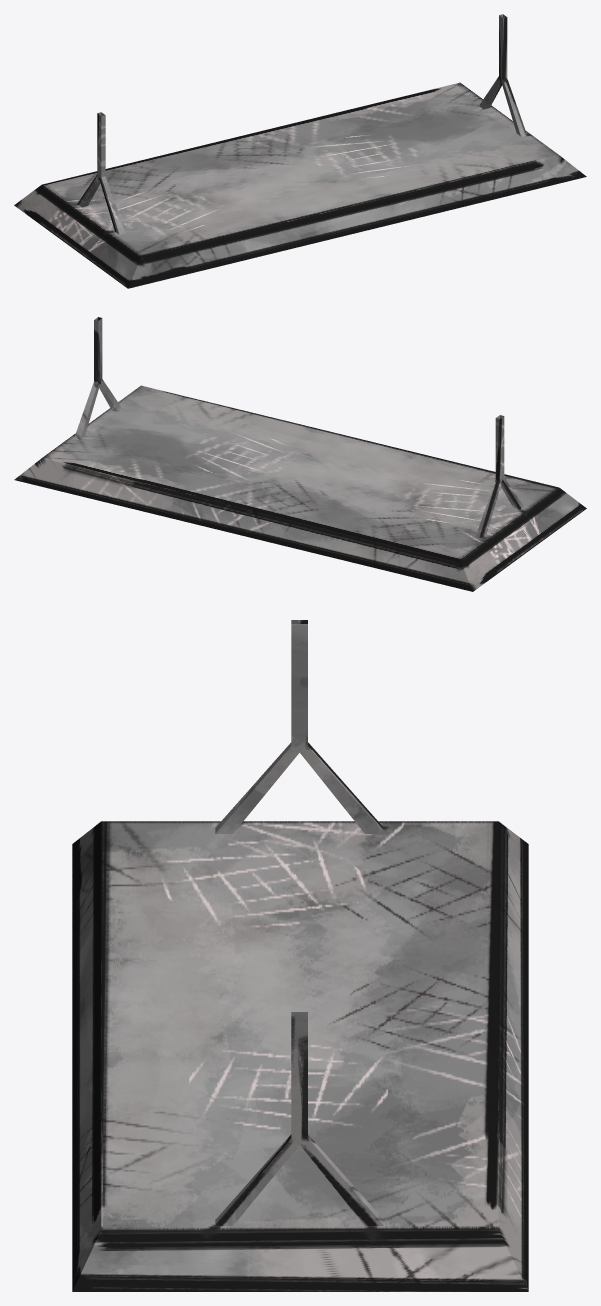
File: Ceiling Lamp.glb
3 renders of one model, top to bottom at view 1: azimuth 30°, elevation 25°; view 2: azimuth 150°, elevation 25°; view 3: azimuth 270°, elevation 25°, orthographic. The views are drawn at different scales.
Parts seen in each view (by area): view 1: Ceiling Lamp; view 2: Ceiling Lamp; view 3: Ceiling Lamp.
Part boxes in pixels (left/top/right/bottom): Ceiling Lamp: left=14, top=14, right=586, bottom=288; Ceiling Lamp: left=14, top=317, right=586, bottom=591; Ceiling Lamp: left=72, top=620, right=528, bottom=1291.
Bounding box in the file's own units: 1.64 × 0.428 × 0.7037.
2 materials, 1 textured.
